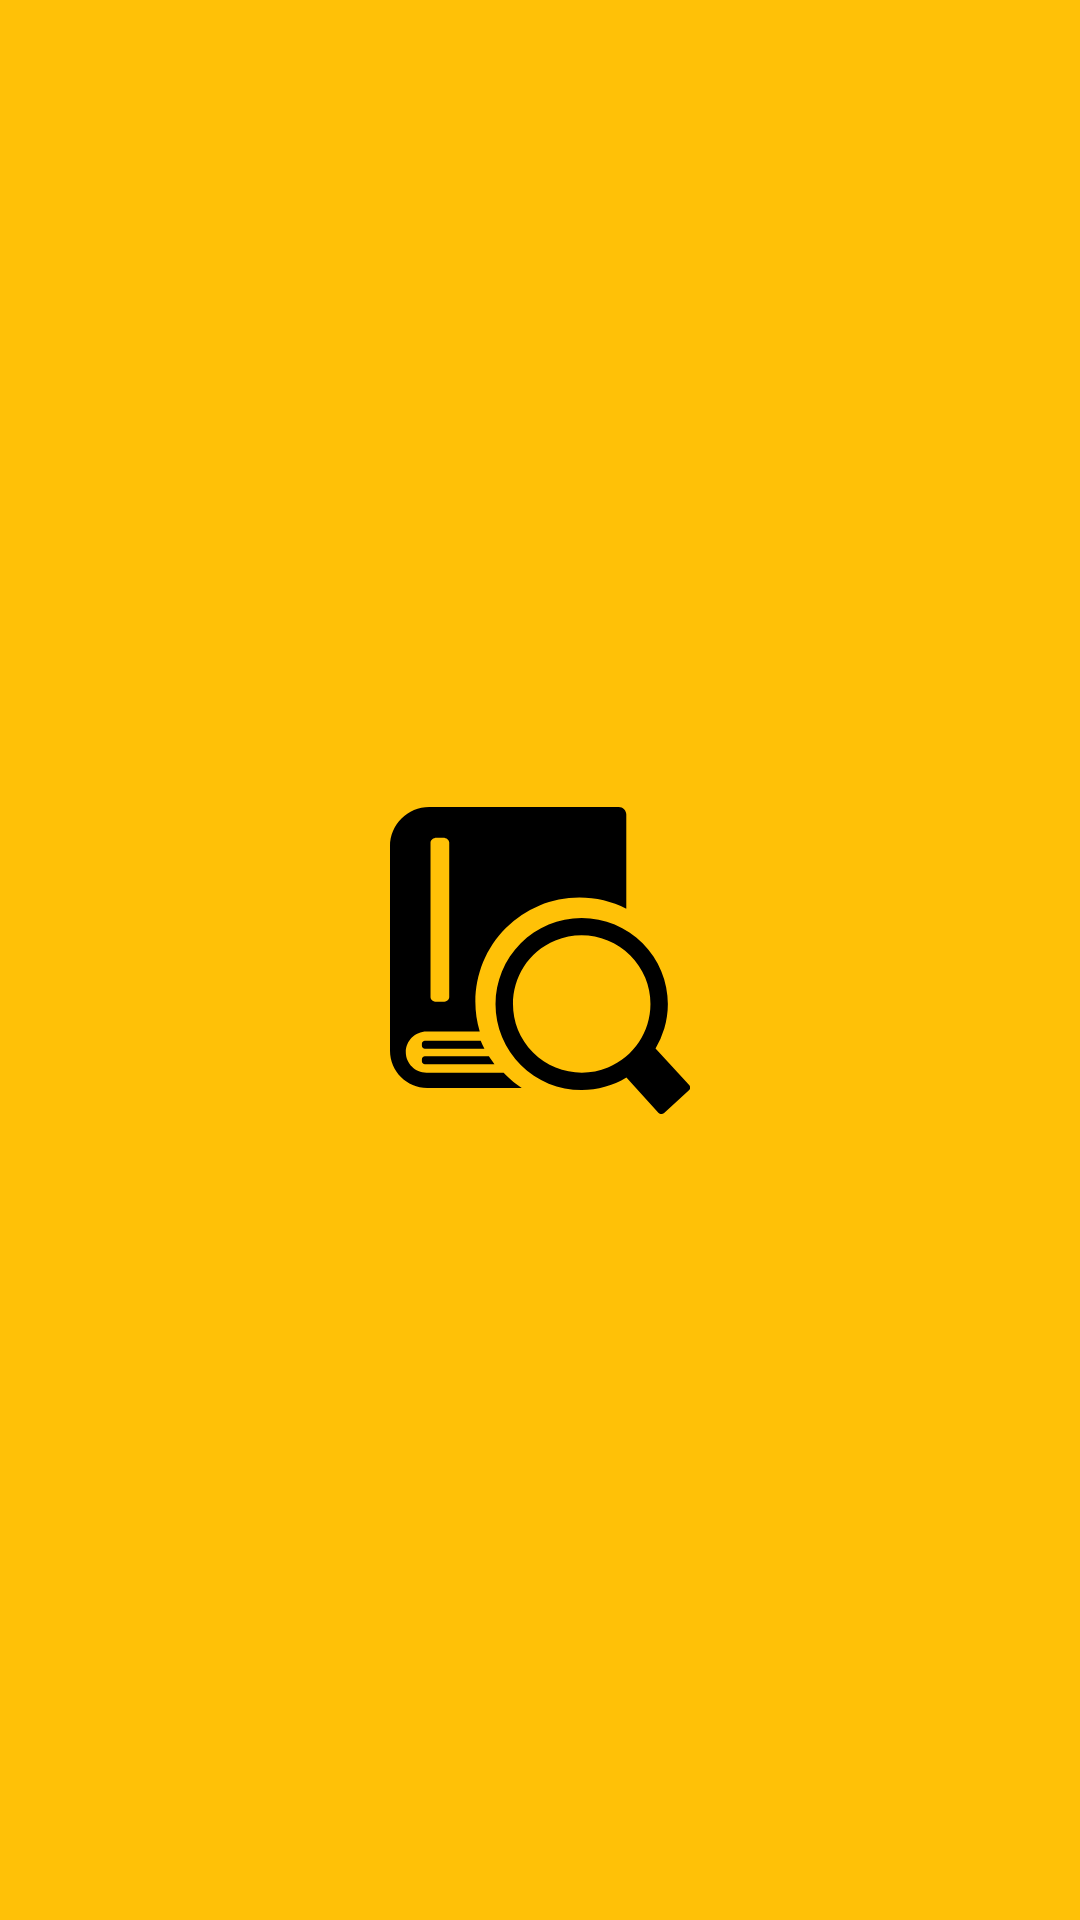

Named icons in this screenshot (1080w x 1920h) and their bounding boxes, bbox(x1, y1, x2, y2):
find book: bbox(390, 807, 690, 1114)
